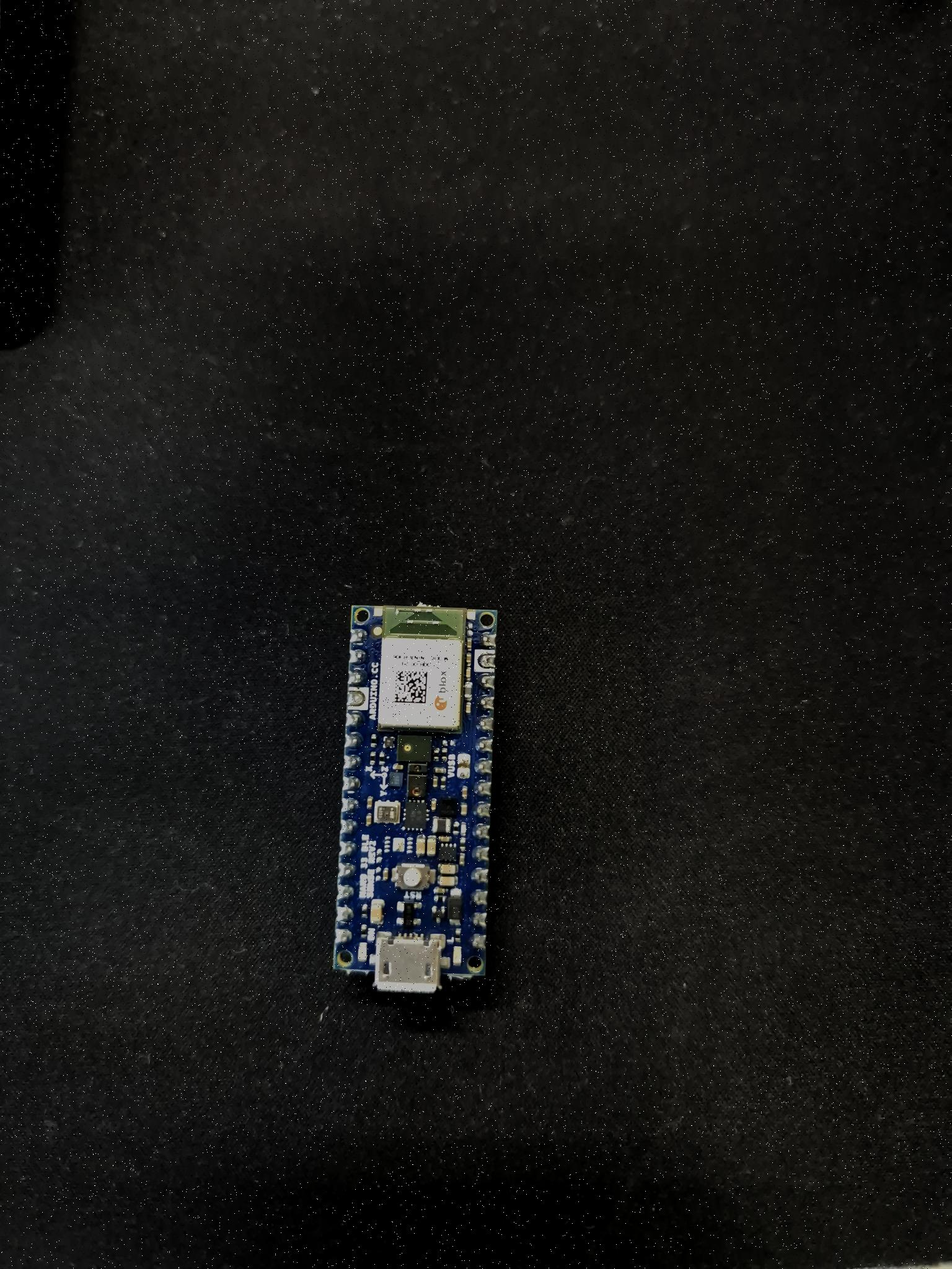arduino-nano-ble-sense: (334, 605, 497, 993)
